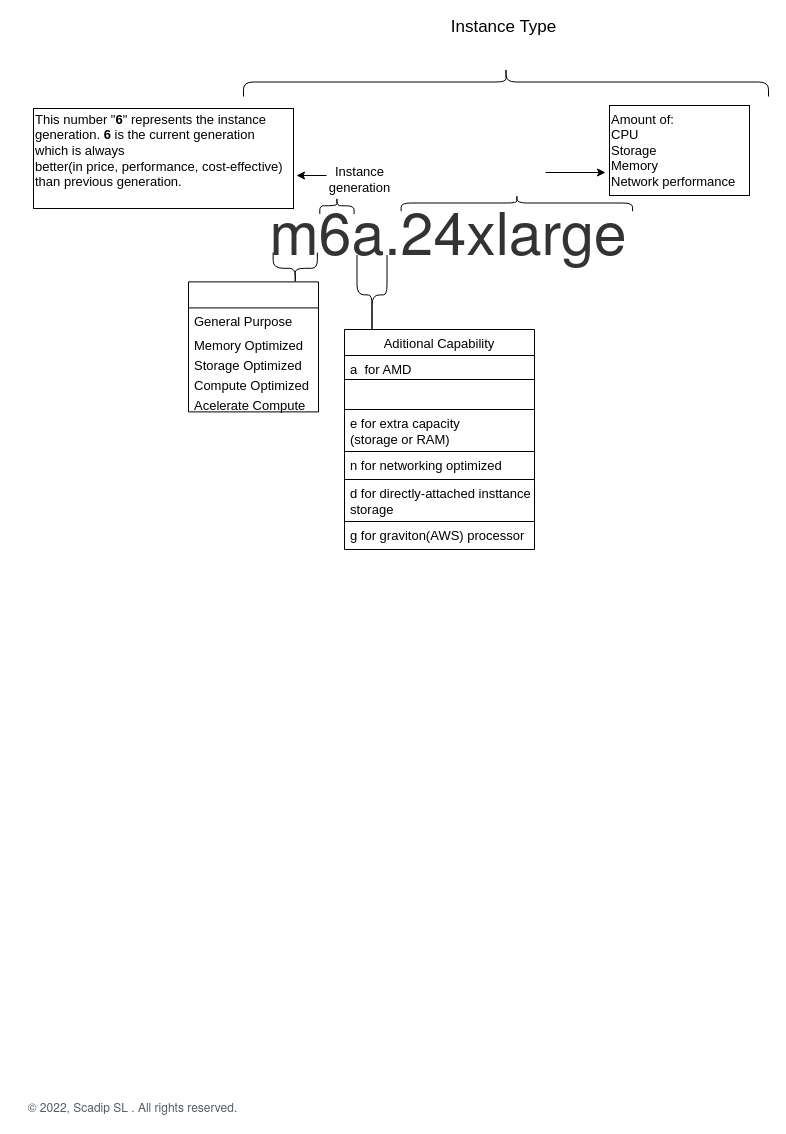
Some shapes in this 786 by 1134 pixel diagram are drawn without their labels. The shapes that lost their labels are listed below. From the top down, each one's box as (x1, y1, x2, y2) in pixels, then its label:
(400, 194, 633, 211): Instance size
(188, 281, 318, 412): Instance Family
(344, 378, 534, 410): b for Block Storage optimize
